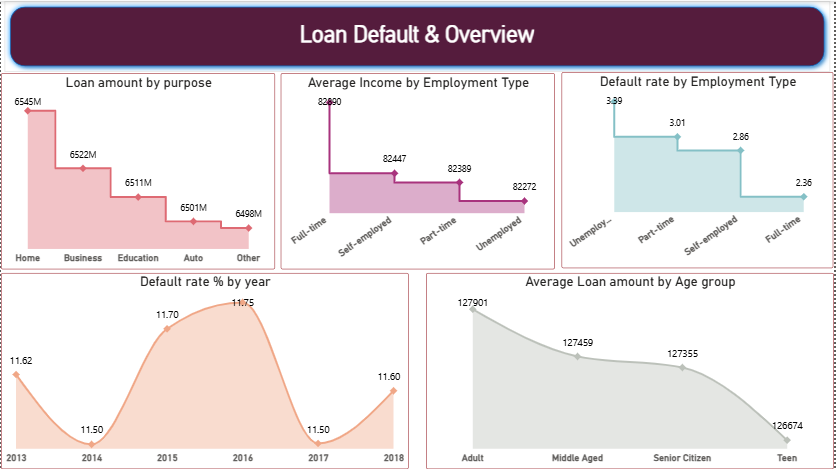

The dashboard page shown, as its layout file describes it:
{"tool":"powerbi","page":{"name":"Overview & Loan Default","canvas":[1280,720],"ordinal":0},"visuals":[{"type":"shape","box":[5.1,0,1270.3,109.3],"z":0},{"type":"lineChart","title":"Average Income by Employment Type","fields":{"Y":["Measures Table 1.Average Income by Employment type"],"Category":["Loan_default.EmploymentType"]},"box":[430.3,111,421.7,302.2],"z":1000},{"type":"lineChart","title":"Loan amount by purpose","fields":{"Category":["Loan_default.LoanPurpose"],"Y":["Measures Table 1.Loan amount by purpose"]},"box":[0,111,421.7,300.5],"z":2000},{"type":"lineChart","title":"Default rate by Employment Type","fields":{"Y":["Measures Table 1.Default rate by employment type"],"Category":["Loan_default.EmploymentType"]},"box":[862.2,109.3,418.3,302.2],"z":3000},{"type":"lineChart","title":"Average Loan amount by Age group","fields":{"Category":["Loan_default.Age groups"],"Y":["Measures Table 1.Average Loan by Age group"]},"box":[653.9,418.3,626.6,302.2],"z":4000},{"type":"lineChart","title":"Default rate % by year","fields":{"Y":["Measures Table 1.Default rate by year"],"Category":["Loan_default.Year"]},"box":[0,418.3,626.6,302.2],"z":5000}]}

Visuals, with their boxes in screenshot pixels (x1, y1, x2, y2), scaled from the page's 1280x720 canvas onto the 836x469 screenshot:
shape: x1=3, y1=0, x2=833, y2=71
"Average Income by Employment Type" lineChart: x1=281, y1=72, x2=556, y2=269
"Loan amount by purpose" lineChart: x1=0, y1=72, x2=275, y2=268
"Default rate by Employment Type" lineChart: x1=563, y1=71, x2=835, y2=268
"Average Loan amount by Age group" lineChart: x1=427, y1=272, x2=835, y2=468
"Default rate % by year" lineChart: x1=0, y1=272, x2=409, y2=468
